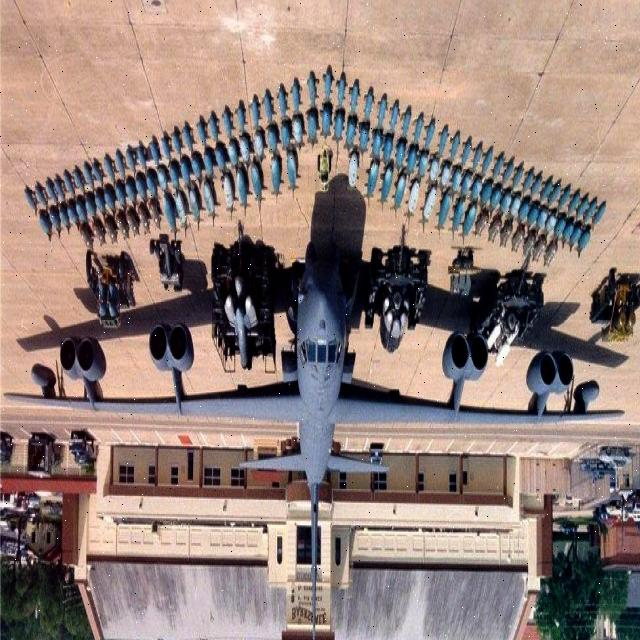B52: (4, 228, 640, 632)
